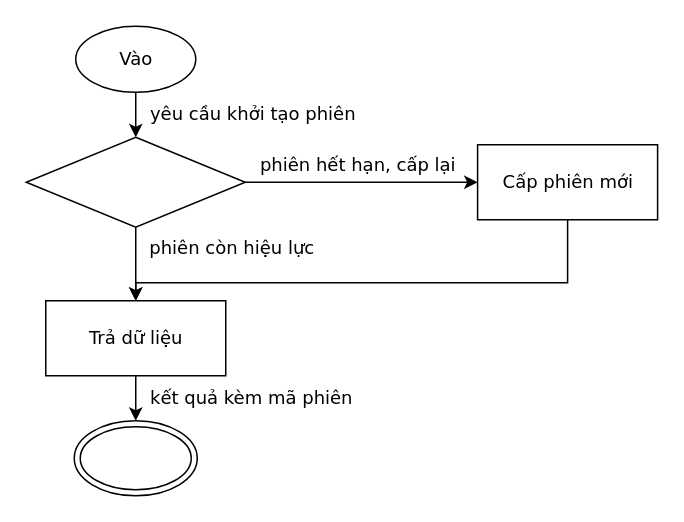
Some shapes in this 684 by 522 pixel diagram are drawn without their labels. Here are the shapes that lost their labels. From the top down, the centre of each, then its label:
point 135,181: Phiên hợp lệ?
point 135,457: Nhận
